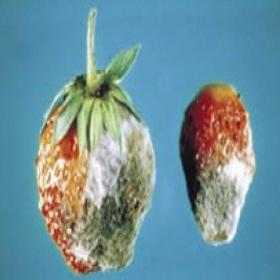Gray Mold: (36, 98, 157, 274), (180, 97, 256, 247)
